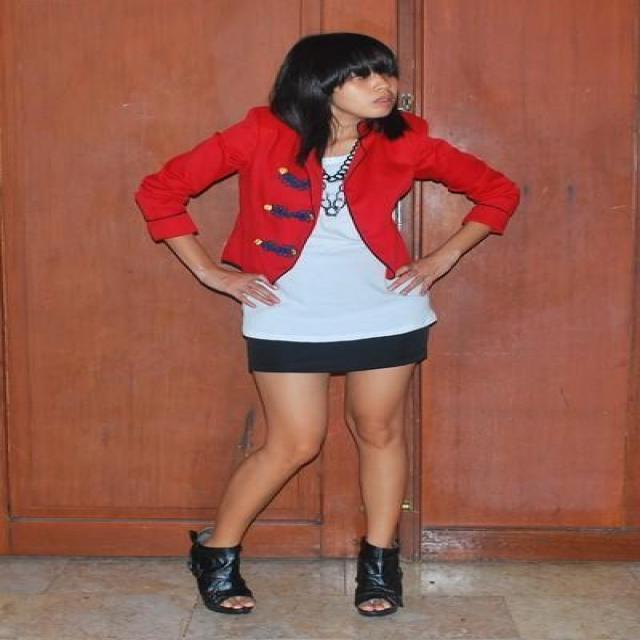jacket: (136, 105, 518, 284)
shirt: (243, 141, 435, 341)
shoe: (187, 531, 402, 617)
skirt: (243, 321, 435, 376)
